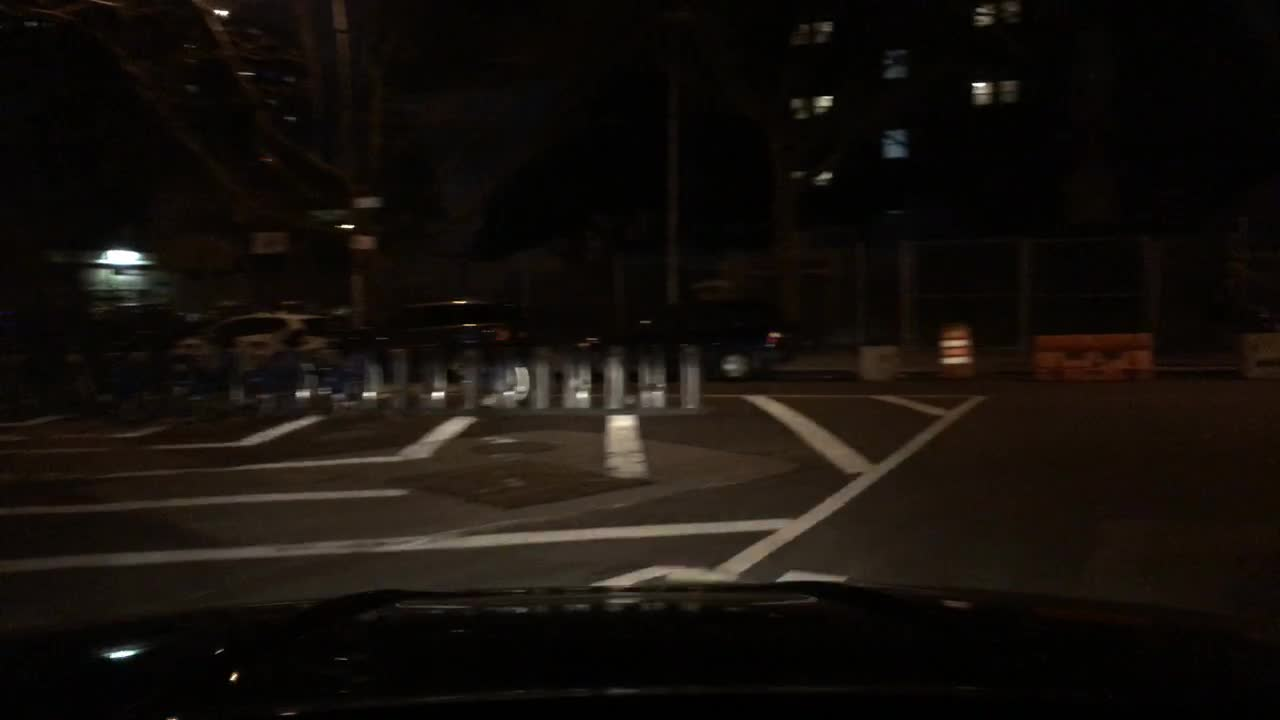car: (570, 295, 796, 378), (170, 310, 354, 388), (348, 301, 526, 380), (1, 299, 165, 368)
traffic sign: (251, 235, 288, 256), (349, 233, 379, 254), (346, 196, 379, 209)
